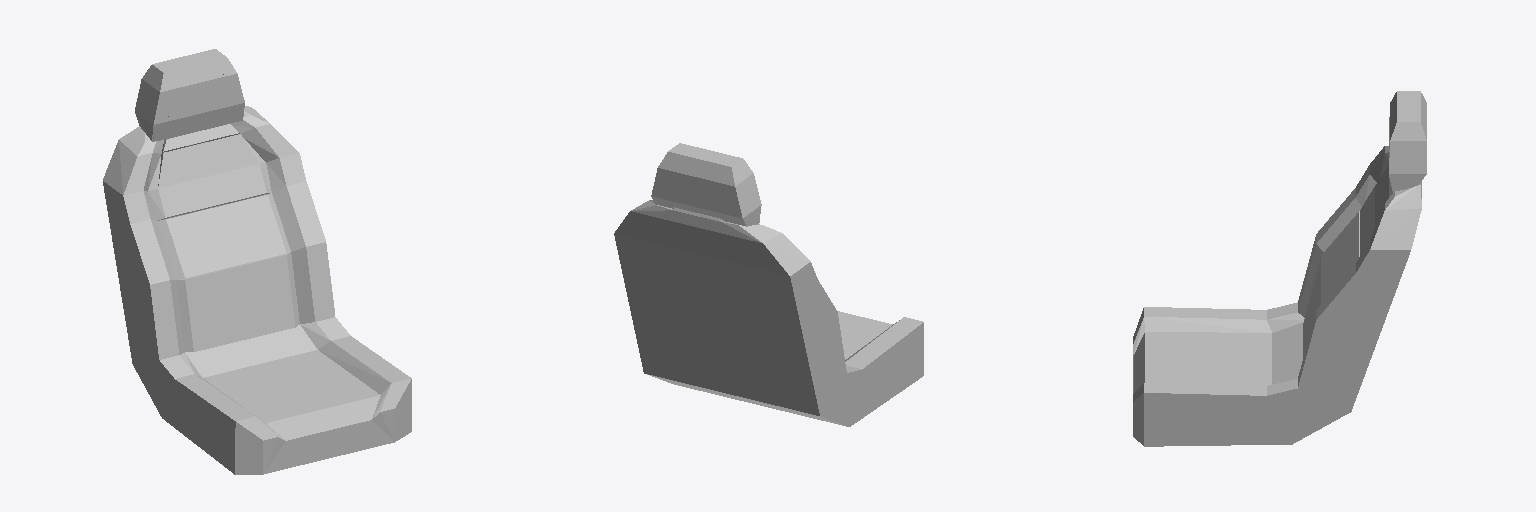
Rendered from Seat.obj.
The picture shows the model from 3 angles: view 1: azimuth 30°, elevation 25°; view 2: azimuth 150°, elevation 25°; view 3: azimuth 270°, elevation 25°; orthographic projection.
Bounding box in the file's own units: 0.8482 × 1.36 × 1.22.